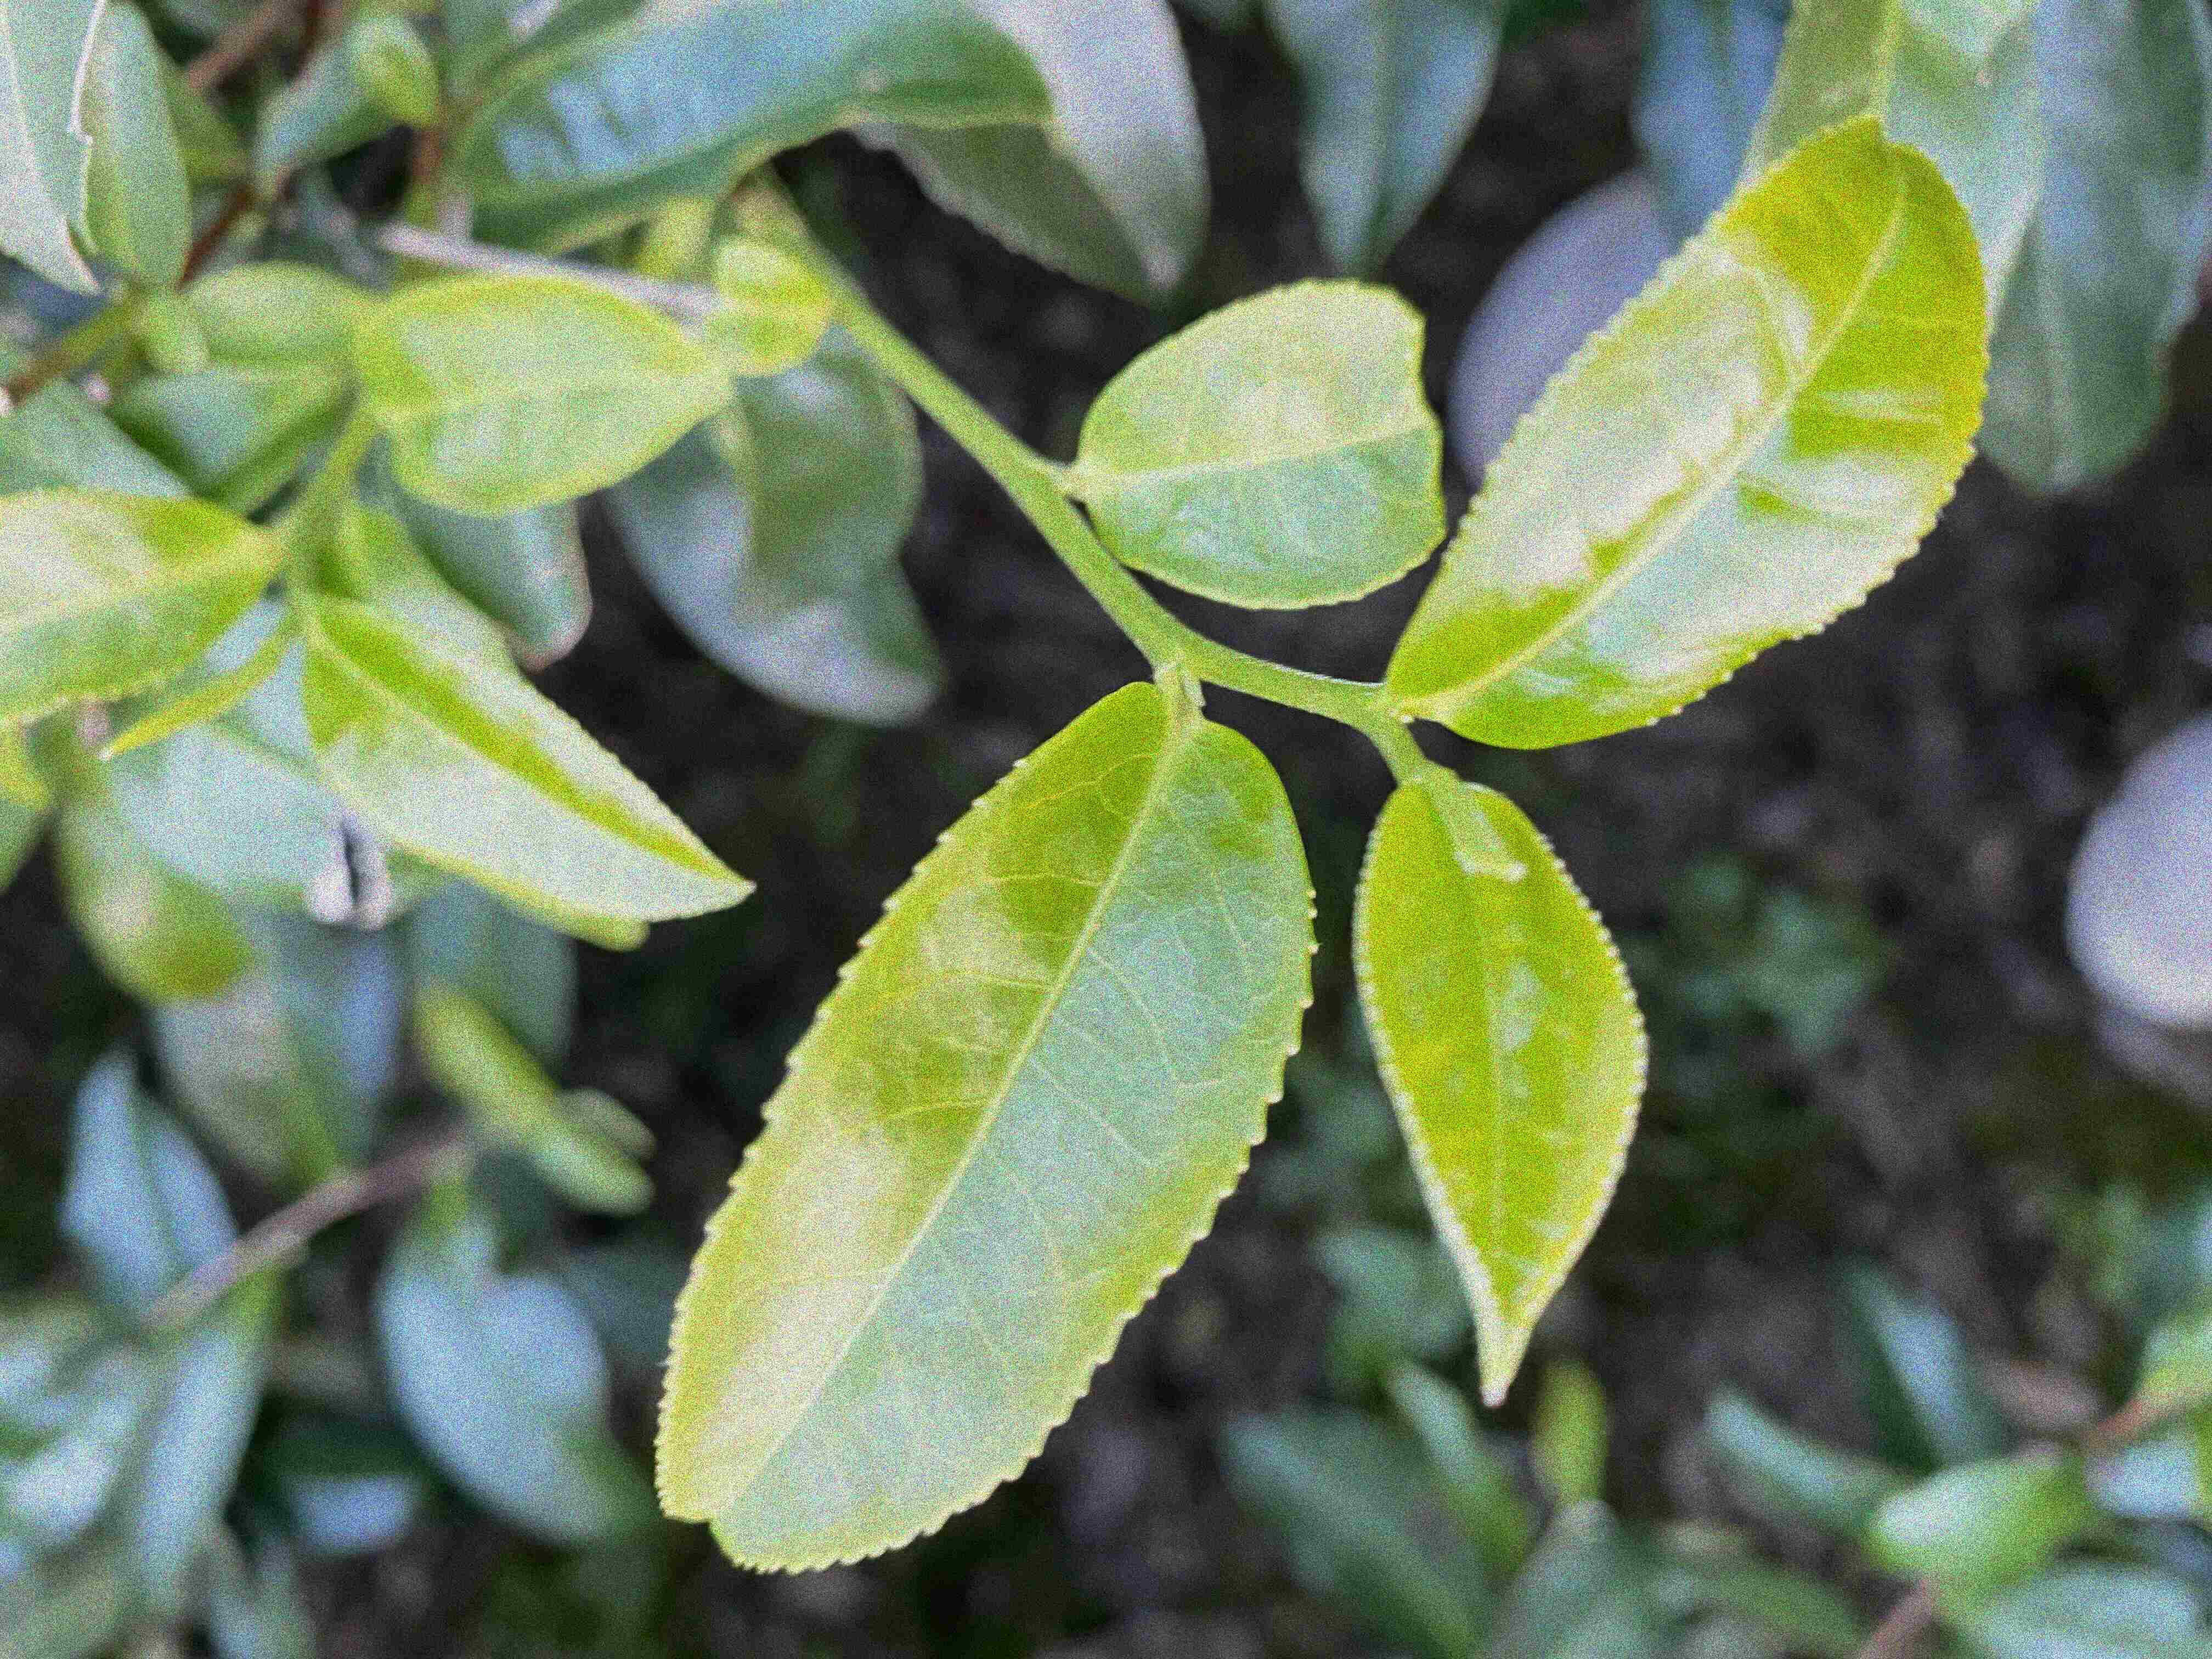chihuo_high: (1076, 279, 1446, 612)
healthy: (655, 685, 1325, 1582), (1385, 115, 1996, 756), (1348, 767, 1653, 1412)
